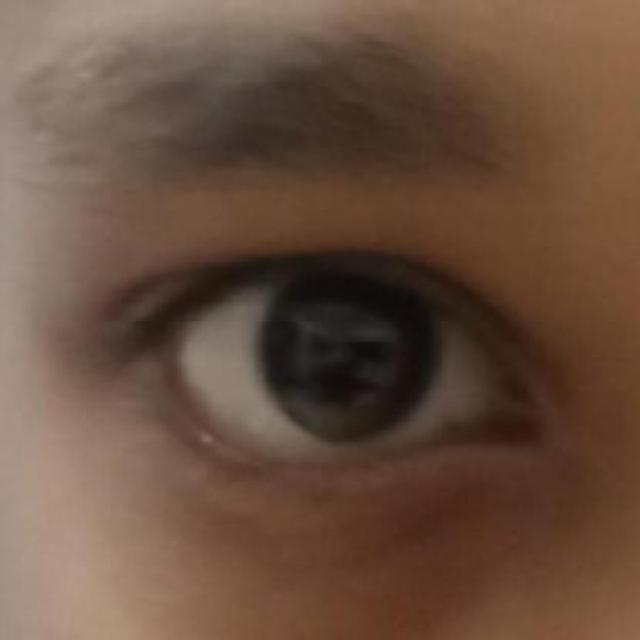awake: (146, 250, 537, 488)
